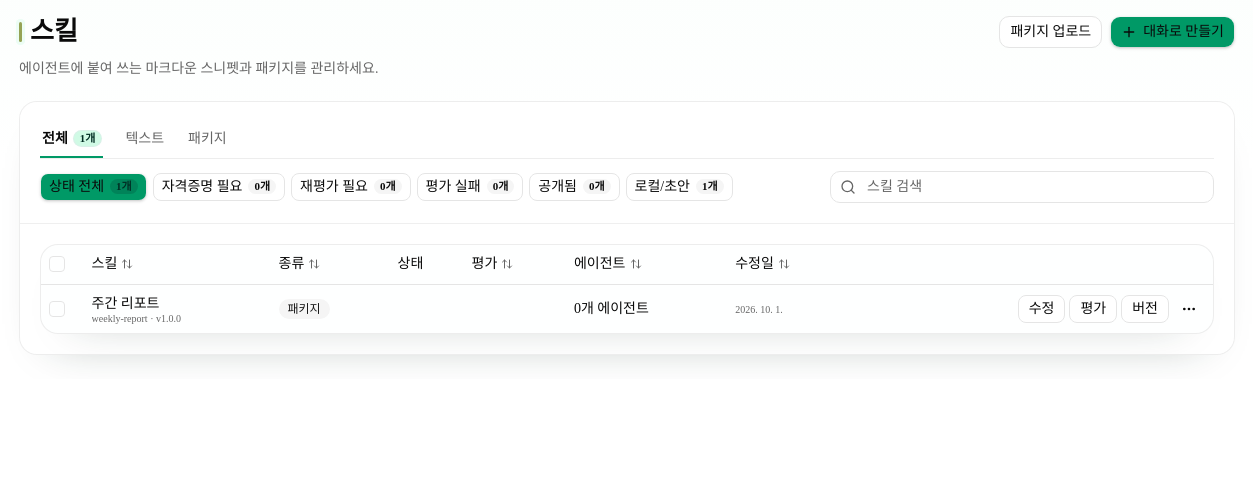
Scenario: skill list row actions by permission level › owner (legacy body): improve, evaluation and delete
This screenshot has width=1253, height=498.
Check: the button with aria-label "주간 리포트 대화로 개선" is shown, box [1018, 295, 1066, 323]
Check: the button "평가" in the row of "주간 리포트" is shown, box [1070, 295, 1117, 323]
Click the button named "주간 리포트 추가 작업" at (1189, 309), box [1173, 293, 1205, 325]
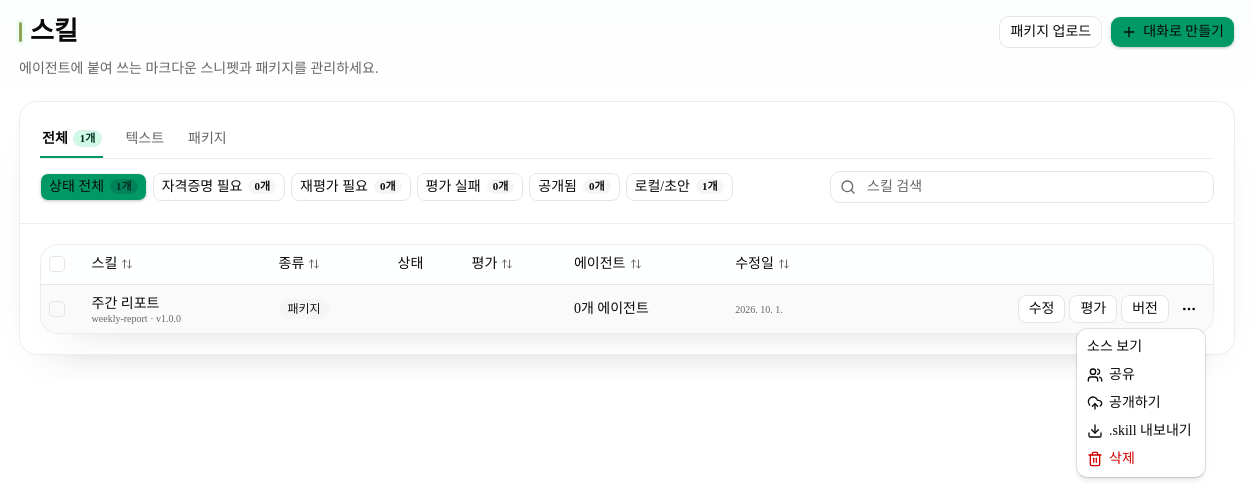
Check: the menu item "삭제" is shown, box [1087, 451, 1135, 467]
